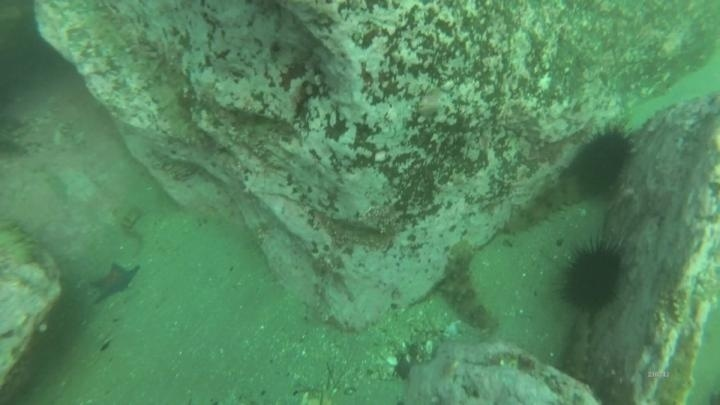echinus: (556, 237, 630, 317), (568, 123, 638, 199)
holothurian: (440, 240, 501, 333), (500, 176, 585, 237), (559, 311, 597, 385)
starfish: (87, 259, 142, 304)
